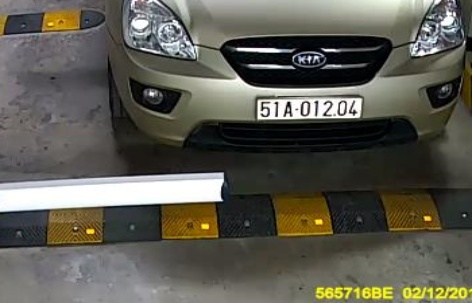plate: (257, 95, 363, 118)
